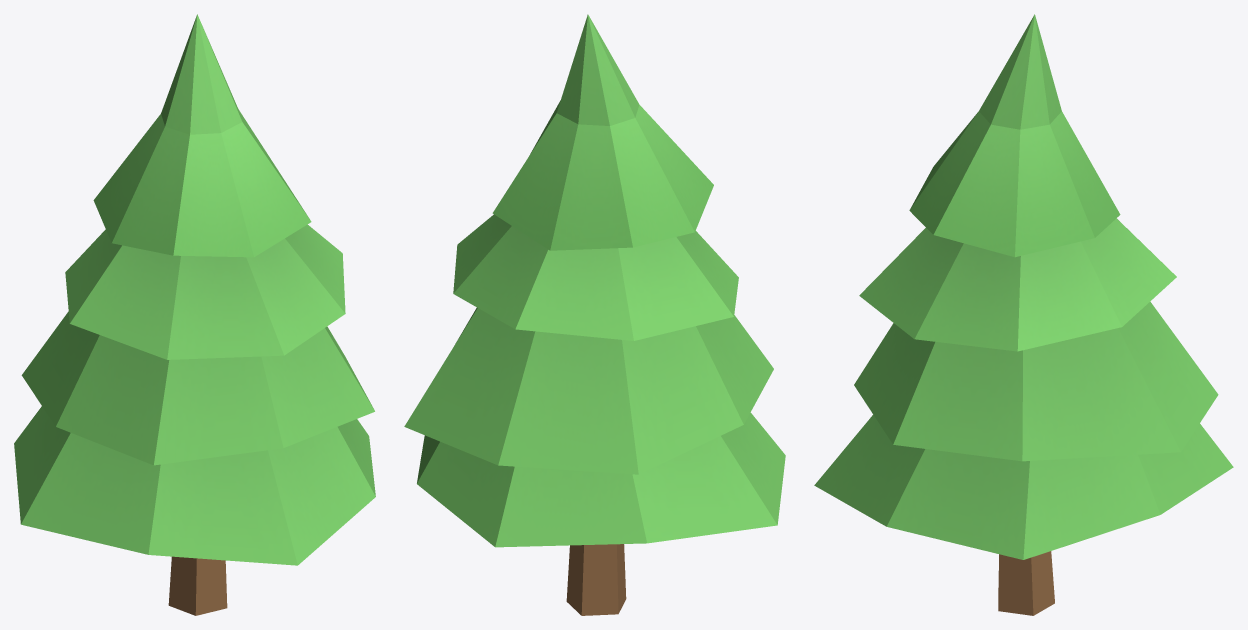
Rendered from Fir_Tree_OneSided_m_04_LOD.fbx.
3 renders of one model, left to right at view 1: azimuth 30°, elevation 25°; view 2: azimuth 150°, elevation 25°; view 3: azimuth 270°, elevation 25°, orthographic.
Parts seen in each view (by area): view 1: Fir_Tree_OneSided_m_04_LOD0; view 2: Fir_Tree_OneSided_m_04_LOD0; view 3: Fir_Tree_OneSided_m_04_LOD0.
Boxes of the visible parts, bbox=[...] form: Fir_Tree_OneSided_m_04_LOD0: bbox=[14, 14, 375, 615]; Fir_Tree_OneSided_m_04_LOD0: bbox=[404, 14, 785, 615]; Fir_Tree_OneSided_m_04_LOD0: bbox=[814, 14, 1233, 615].
Size of what is drawn, in the model's own units: 394 by 632 by 406.
